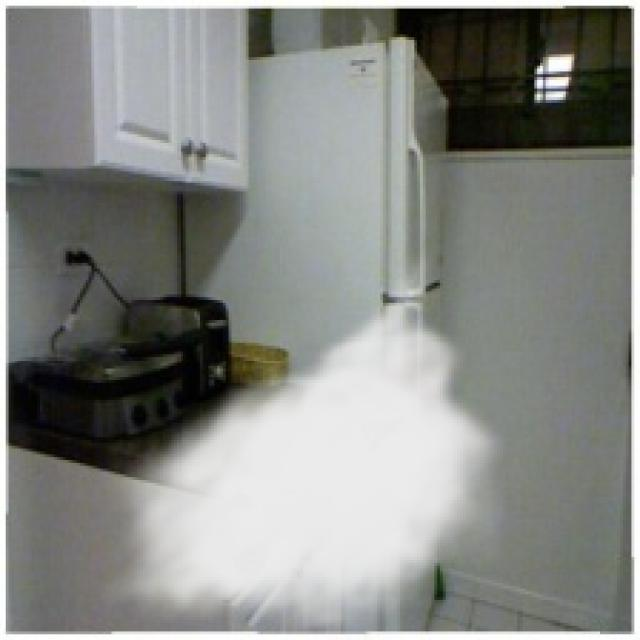smoke: (100, 249, 514, 637)
